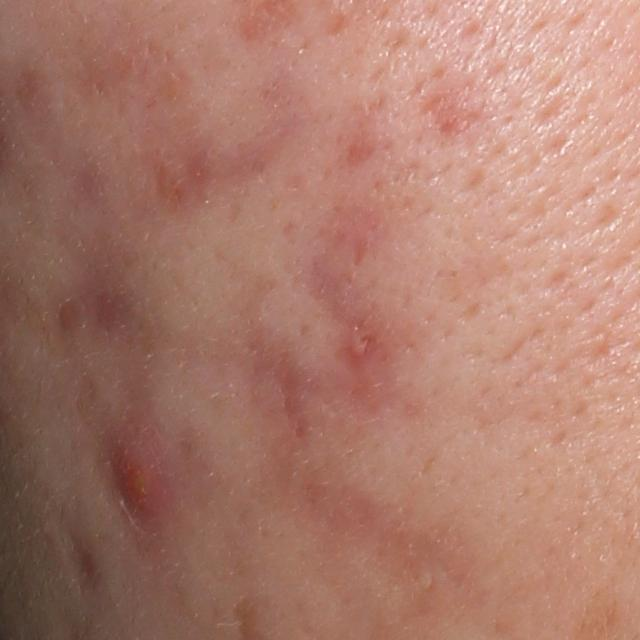atrophic_scar: (58, 518, 100, 592), (275, 357, 312, 439)
papule: (107, 440, 172, 528)
